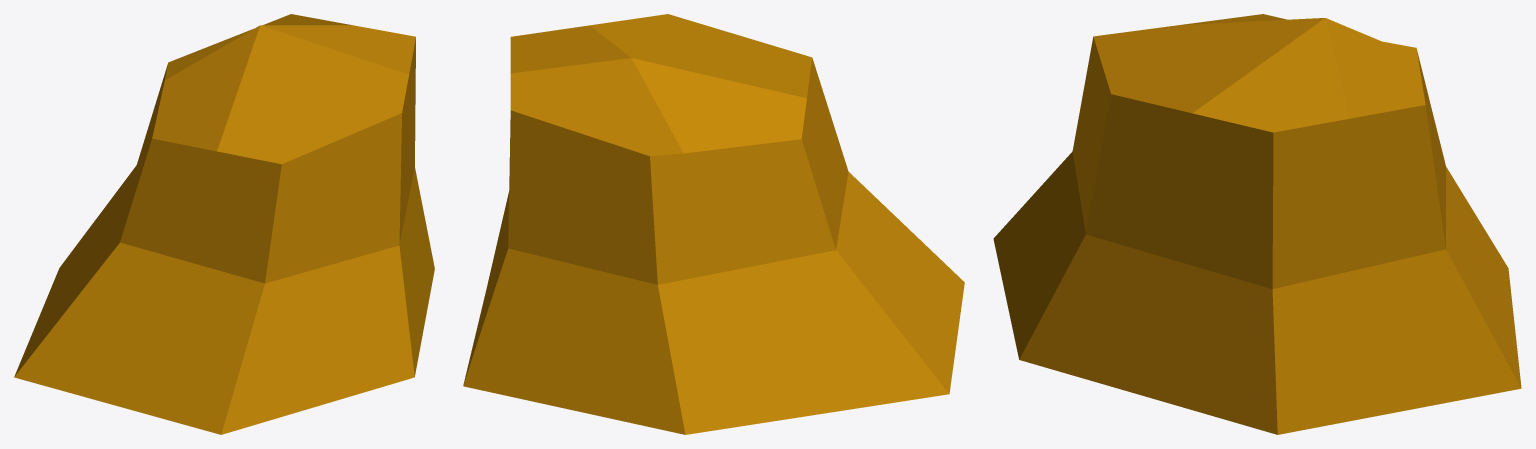
Rendered from Pierre_3_.FBX.
3 views of the same model, side by side, from view 1: azimuth 30°, elevation 25°; view 2: azimuth 150°, elevation 25°; view 3: azimuth 270°, elevation 25° (orthographic). The views are drawn at different scales.
Parts seen in each view (by area): view 1: Cone009; view 2: Cone009; view 3: Cone009.
Boxes of the visible parts, left/top/right/bottom form: Cone009: left=14, top=14, right=434, bottom=434; Cone009: left=463, top=14, right=964, bottom=434; Cone009: left=993, top=14, right=1521, bottom=434.
Bounding box in the file's own units: 123 × 73.51 × 108.
